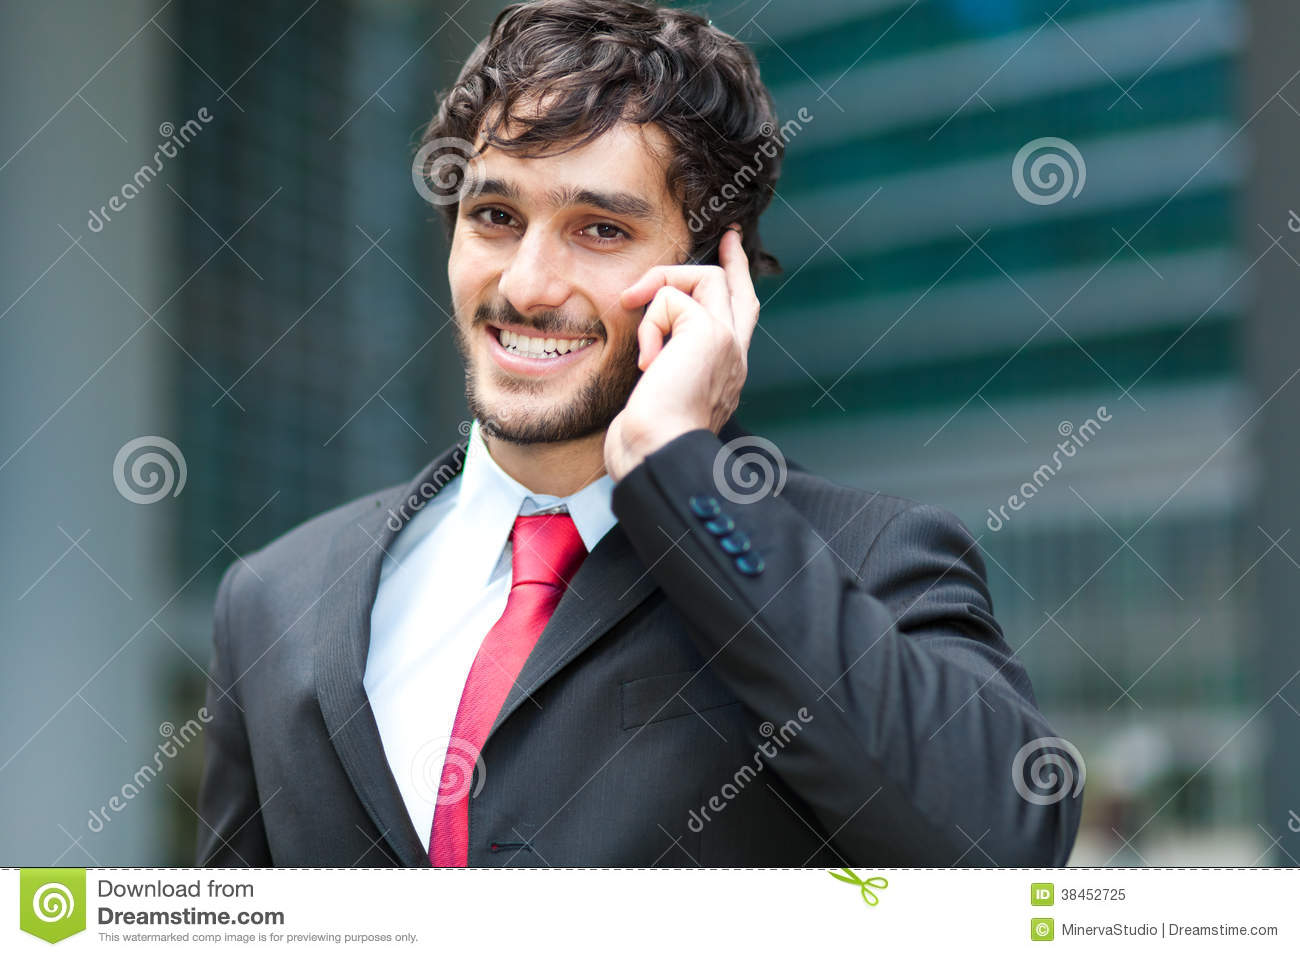talk: (447, 166, 762, 469)
